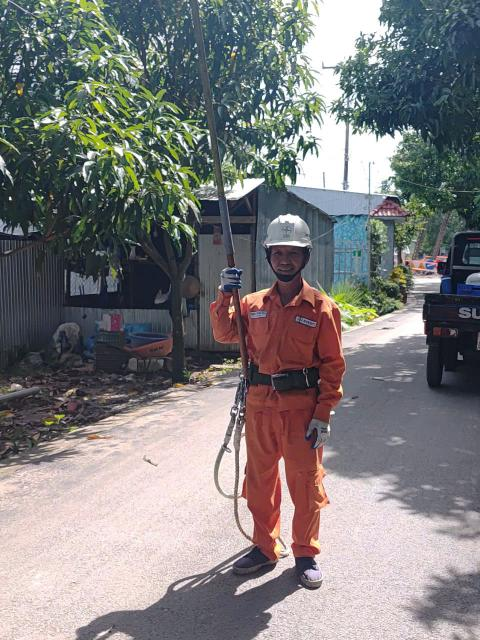gloves: (302, 410, 337, 447), (218, 264, 251, 296)
harness: (242, 347, 361, 397)
helmet: (242, 209, 333, 264)
shoes: (216, 536, 288, 575), (289, 543, 335, 590)
